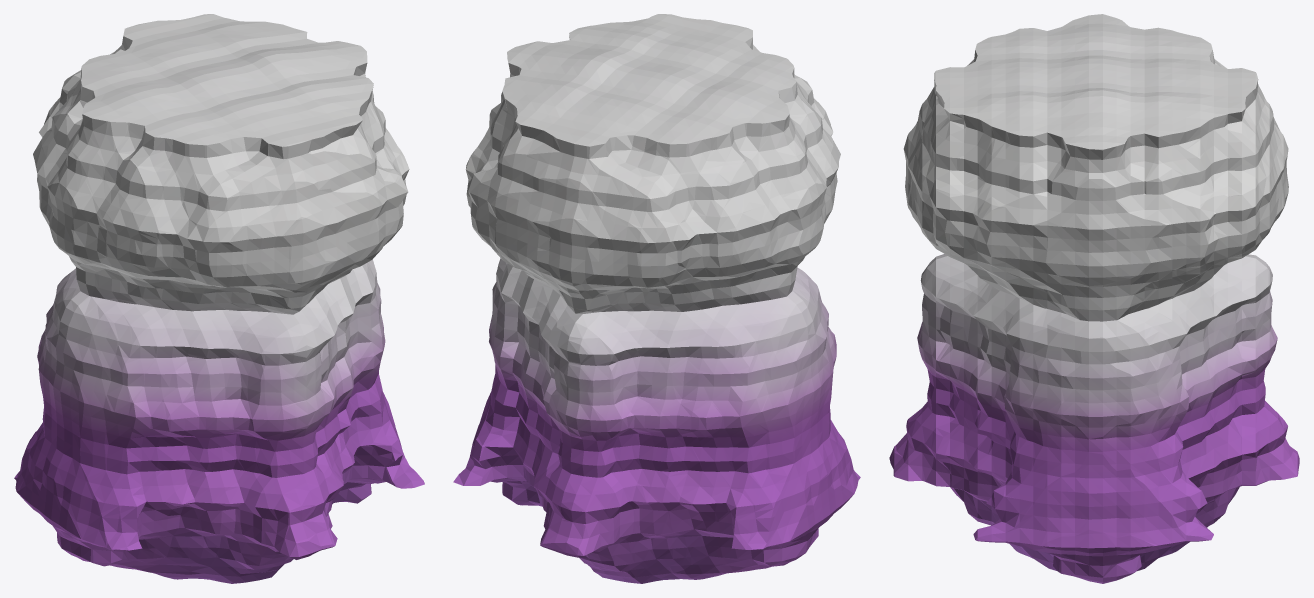
The picture shows the model from 3 angles, left to right: view 1: azimuth 30°, elevation 25°; view 2: azimuth 150°, elevation 25°; view 3: azimuth 270°, elevation 25°; orthographic projection.
Visible parts, largest first — view 1: geometry_0; view 2: geometry_0; view 3: geometry_0.
Boxes of the visible parts, left/top/right/bottom form: geometry_0: left=14, top=14, right=424, bottom=583; geometry_0: left=453, top=14, right=860, bottom=583; geometry_0: left=889, top=14, right=1299, bottom=583.
Size of the model in its own units: 1.18 by 1.65 by 1.26.
